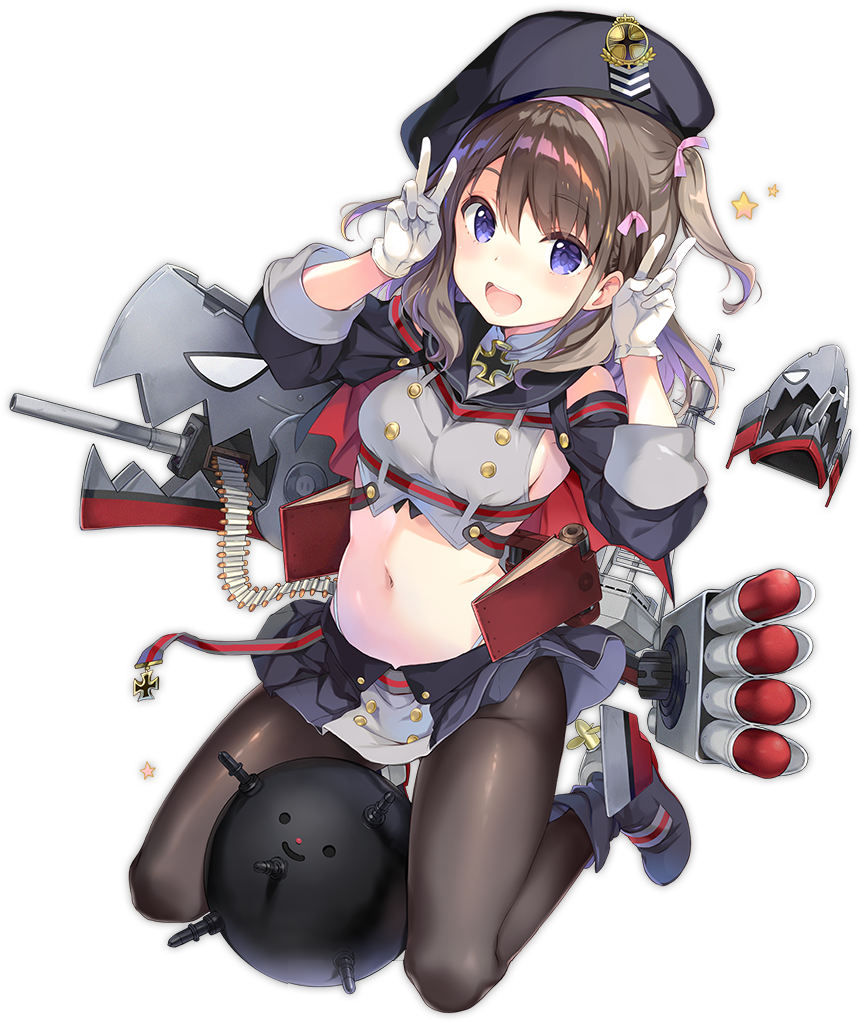person: (112, 1, 861, 1024)
